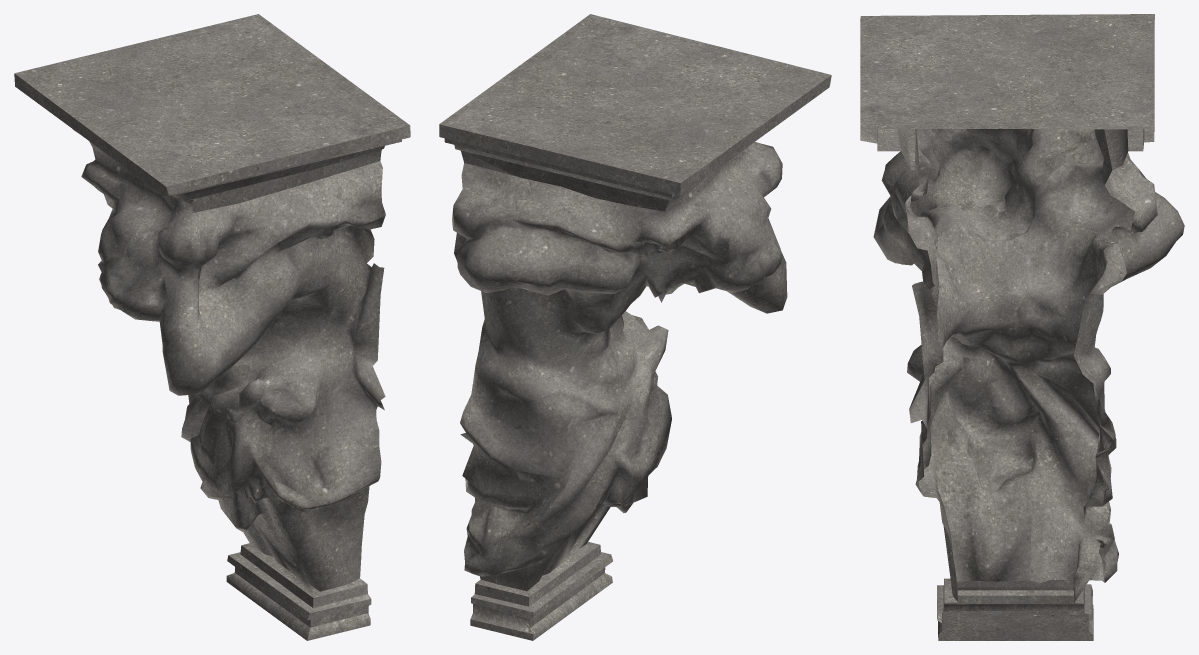
The model's file is SM_Atlas_Statue.fbx.
The picture shows the model from 3 angles, left to right: view 1: azimuth 30°, elevation 25°; view 2: azimuth 150°, elevation 25°; view 3: azimuth 270°, elevation 25°; orthographic projection. The views are drawn at different scales.
Visible parts, largest first — view 1: SM_Atlas_Statue_LOD0; view 2: SM_Atlas_Statue_LOD0; view 3: SM_Atlas_Statue_LOD0.
Boxes of the visible parts, <box> form: SM_Atlas_Statue_LOD0: <box>14,14,410,640</box>; SM_Atlas_Statue_LOD0: <box>439,14,831,640</box>; SM_Atlas_Statue_LOD0: <box>860,14,1184,640</box>.
Bounding box in the file's own units: 191 × 223 × 388.
